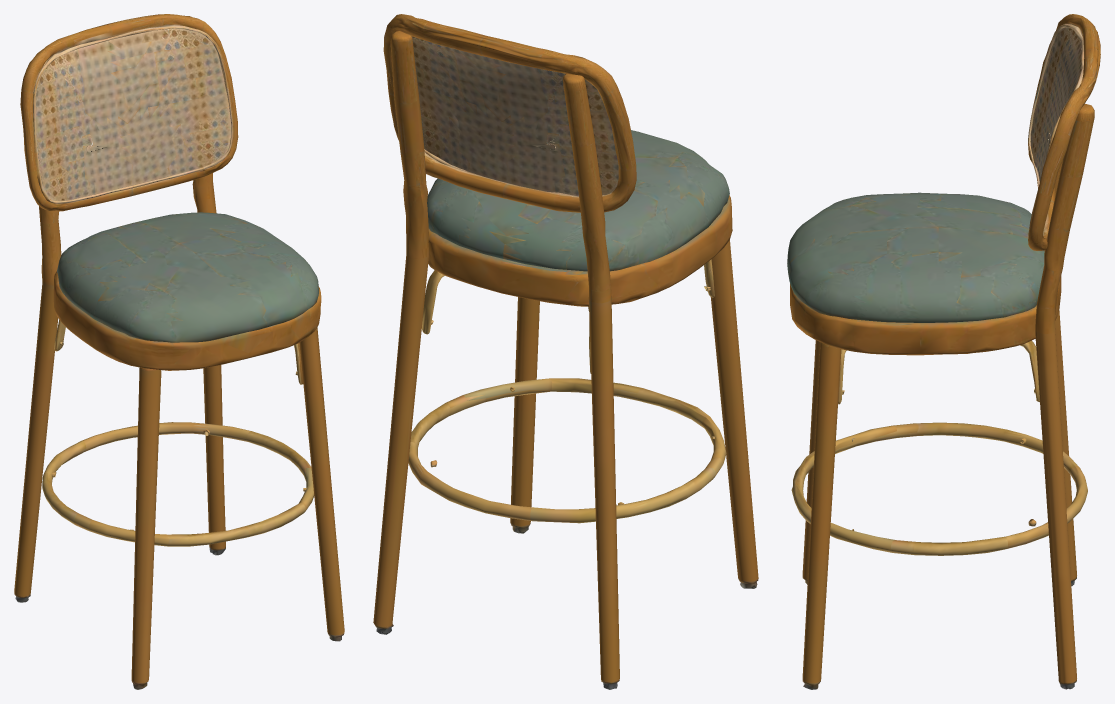
File: bar_stool_cane.glb
The picture shows the model from 3 angles, left to right: view 1: azimuth 30°, elevation 25°; view 2: azimuth 150°, elevation 25°; view 3: azimuth 270°, elevation 25°; orthographic projection. The views are drawn at different scales.
Parts seen in each view (by area): view 1: prop; view 2: prop; view 3: prop.
Boxes of the visible parts, x1,y1,x2,y2 form: prop: [14, 14, 344, 689]; prop: [373, 14, 758, 689]; prop: [787, 14, 1100, 689].
Bounding box in the file's own units: 0.456 × 1 × 0.4838.
Materials: 1 (1 with a texture image).
